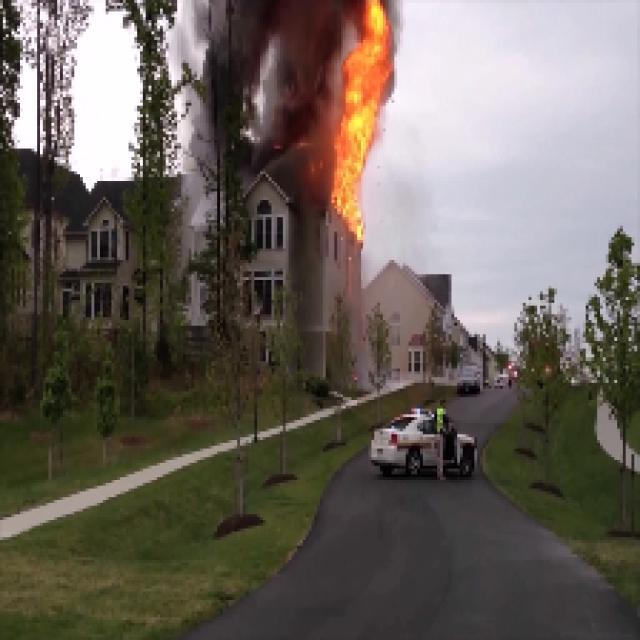fire: (328, 2, 394, 230)
smoke: (192, 4, 320, 182)
